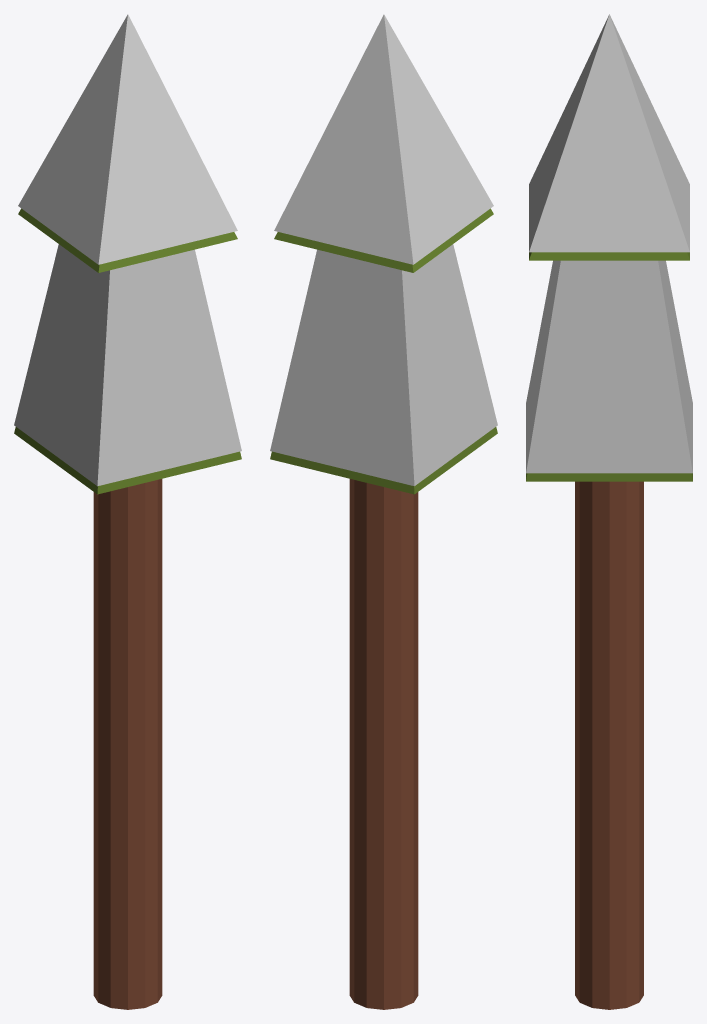
File: Tree_16_winter_mat.fbx
3 views of the same model, side by side, from view 1: azimuth 30°, elevation 25°; view 2: azimuth 150°, elevation 25°; view 3: azimuth 270°, elevation 25° (orthographic).
Parts seen in each view (by area): view 1: Tree_16_winter_mat; view 2: Tree_16_winter_mat; view 3: Tree_16_winter_mat.
Boxes of the visible parts, box(x1,y1,x2,y2) form: Tree_16_winter_mat: box(14, 14, 241, 1009); Tree_16_winter_mat: box(270, 14, 497, 1009); Tree_16_winter_mat: box(526, 14, 692, 1009).
Size of the model in its own units: 2.15 by 13.93 by 2.15.
